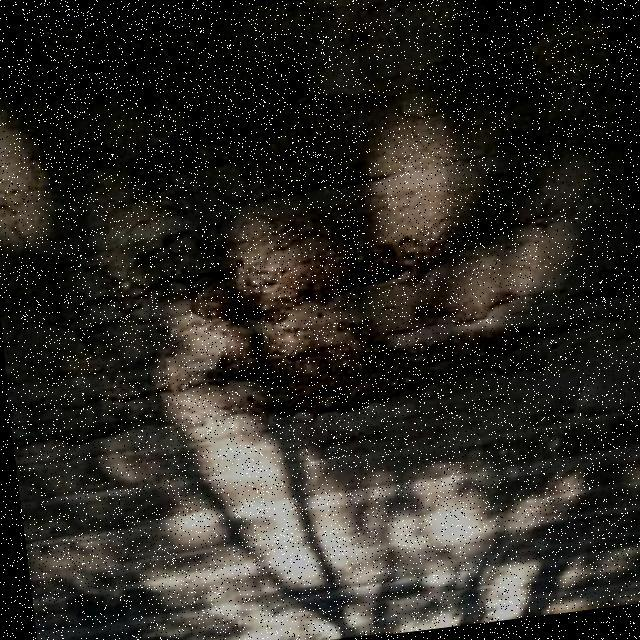Pothole: (175, 228, 584, 419)
